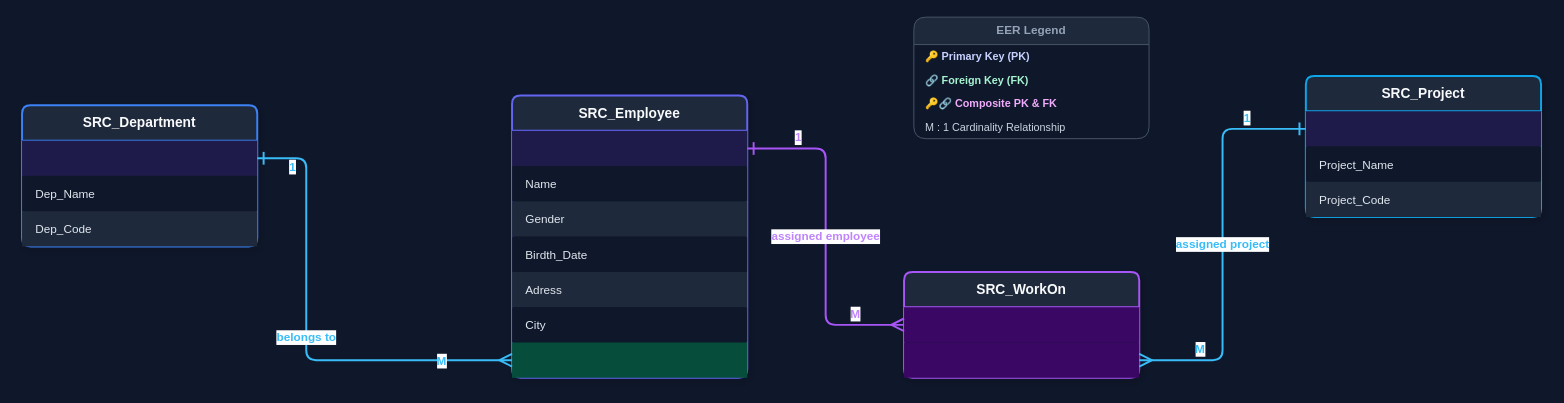
The diagram is 1564 pixels wide and 403 high, and some of its shapes have lost their labels. The shapes that lost their labels are listed below. From the top down, each one's centre as x and y in pixels, then its label:
At point 629,148: "🔑 Emp_ID [PK]".
At point 1423,128: "🔑 Project_ID [PK]".
At point 139,157: "🔑 Dep_ID [PK]".
At point 1021,324: "🔑🔗 Emp_ID [PK, FK]".
At point 629,359: "🔗 Dep_ID [FK]".
At point 1021,359: "🔑🔗 Project_ID [PK, FK]".
